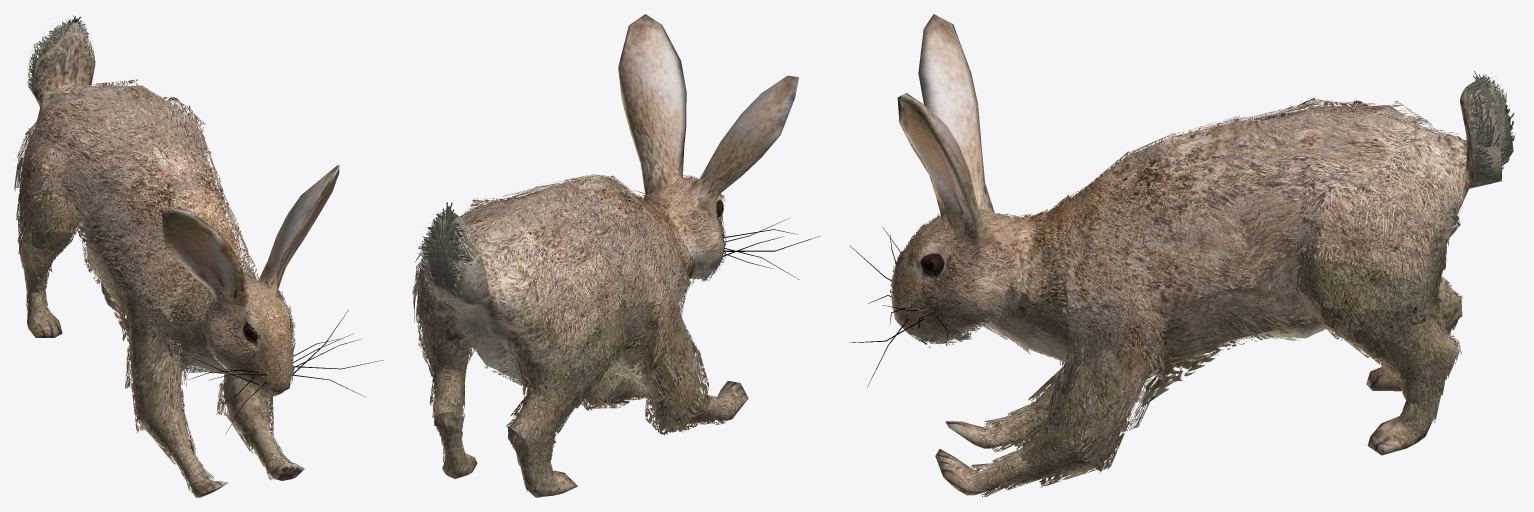
Rendered from rabbit20024.obj.
The picture shows the model from 3 angles, left to right: view 1: azimuth 30°, elevation 25°; view 2: azimuth 150°, elevation 25°; view 3: azimuth 270°, elevation 25°; orthographic projection. The views are drawn at different scales.
Visible parts, largest first — view 1: Rabbit, Fur; view 2: Rabbit, Fur; view 3: Rabbit, Fur.
Boxes of the visible parts, bbox=[...] form: Rabbit: bbox=[19, 33, 383, 497]; Fur: bbox=[14, 15, 295, 492]; Rabbit: bbox=[419, 14, 820, 497]; Fur: bbox=[412, 174, 732, 491]; Rabbit: bbox=[849, 14, 1510, 495]; Fur: bbox=[890, 71, 1515, 496].
Bounding box in the file's own units: 8.06 × 13.12 × 18.84.
